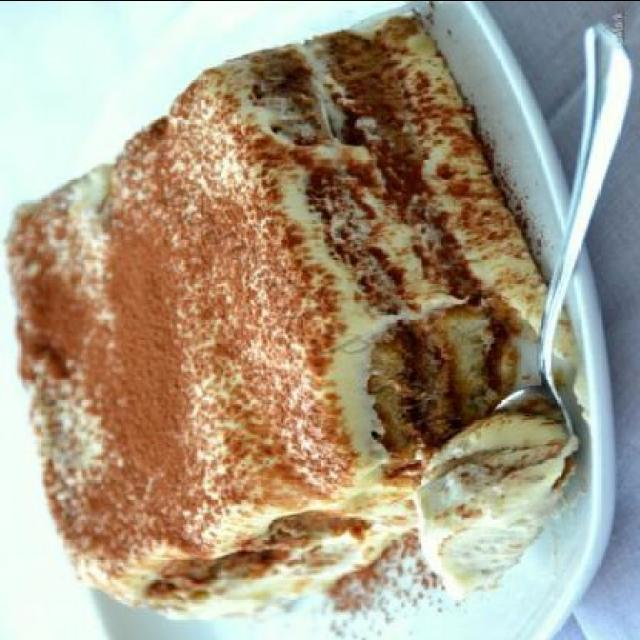Tiramisu: (36, 16, 533, 607)
